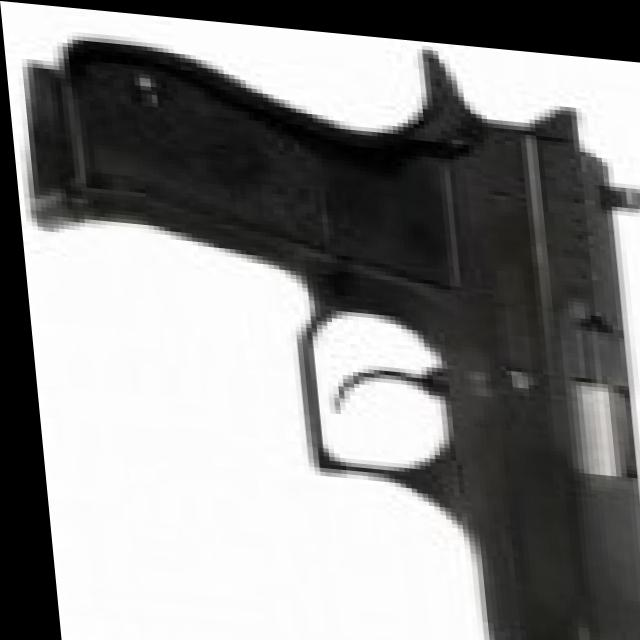handgun: (29, 22, 640, 640)
